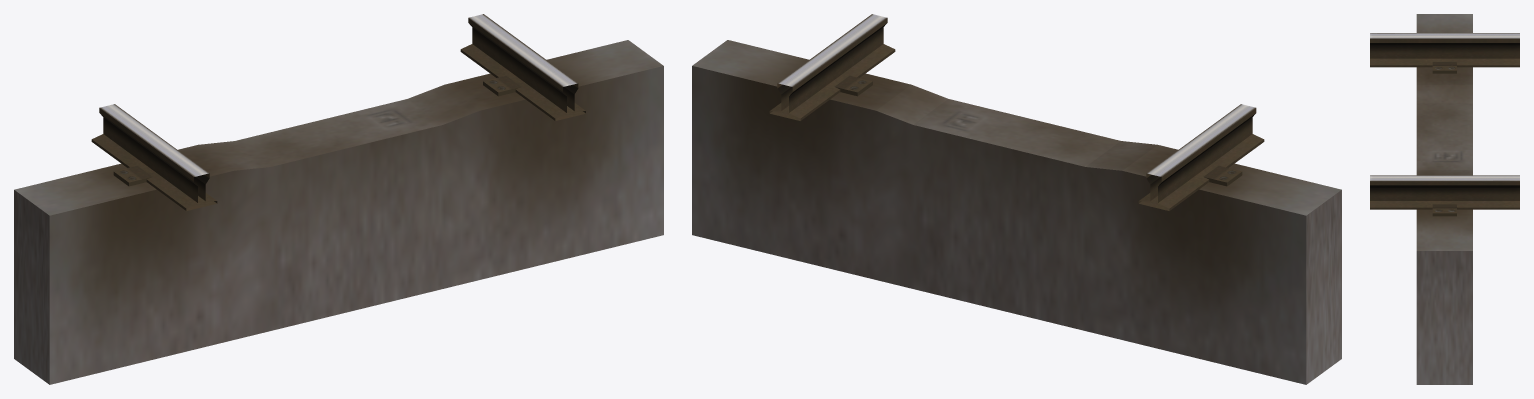
Rendered from railconcrete.obj.
3 views of the same model, side by side, from view 1: azimuth 30°, elevation 25°; view 2: azimuth 150°, elevation 25°; view 3: azimuth 270°, elevation 25° (orthographic). The views are drawn at different scales.
Parts seen in each view (by area): view 1: br_sb.001; view 2: br_sb.001; view 3: br_sb.001.
Part boxes in pixels (x1,y1,x2,y2): br_sb.001: [14, 14, 663, 384]; br_sb.001: [692, 14, 1341, 384]; br_sb.001: [1370, 14, 1519, 384].
Size of the model in its own units: 2.54 by 0.7974 by 0.6793.
1 material, 1 textured.
